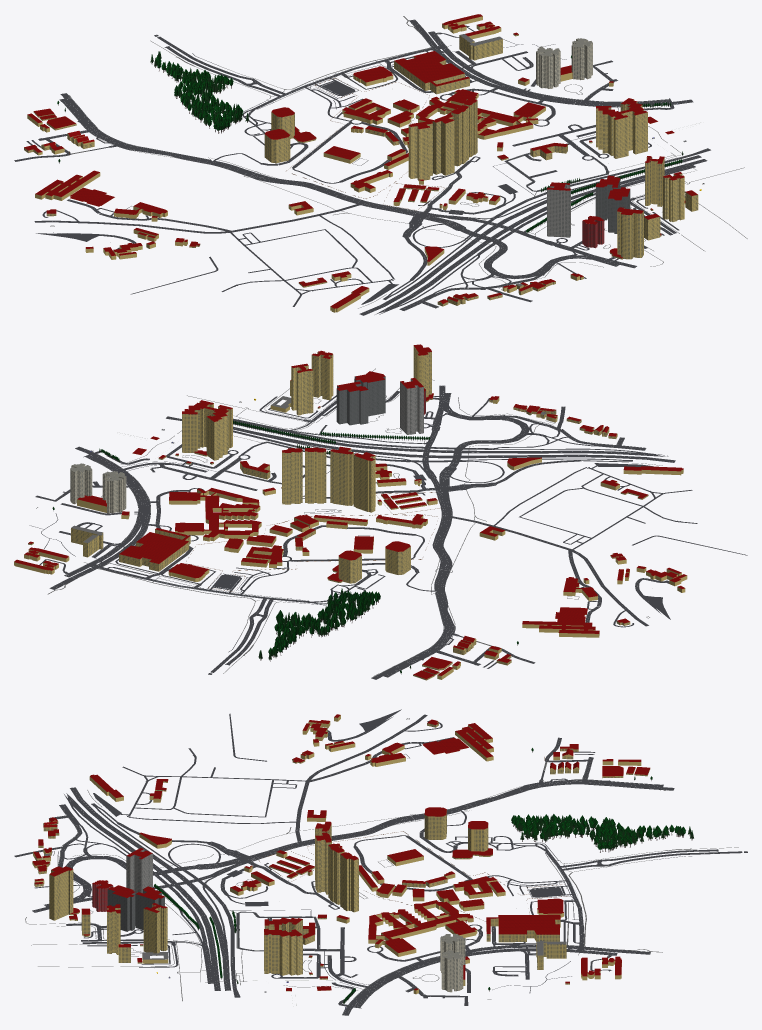
Rendered from osm3d.glb.
The picture shows the model from 3 angles, top to bottom: view 1: azimuth 30°, elevation 25°; view 2: azimuth 150°, elevation 25°; view 3: azimuth 270°, elevation 25°; orthographic projection.
Parts seen in each view (by area): view 1: ASPHALT, Plaster002, RoofingTiles010, Windows, TextureAtlas 7f2b7f43, Concrete034, Plaster002.001, Plaster002.003, Plaster002.002, Windows.001, Windows.003, Windows.002 (+1 smaller); view 2: ASPHALT, Plaster002, RoofingTiles010, Windows, TextureAtlas 7f2b7f43, Concrete034, Plaster002.002, Plaster002.001, Plaster002.003, Windows.002, Windows.001, Windows.003; view 3: ASPHALT, Plaster002, RoofingTiles010, Windows, TextureAtlas 7f2b7f43, Concrete034, Plaster002.002, Plaster002.001, Plaster002.003, Windows.001, Windows.002.
Boxes of the visible parts, box(x1,y1,x2,y2) form: ASPHALT: box(14, 19, 710, 315); Plaster002: box(24, 16, 698, 312); RoofingTiles010: box(24, 14, 697, 308); Windows: box(24, 34, 697, 305); TextureAtlas 7f2b7f43: box(57, 51, 683, 233); Concrete034: box(50, 16, 747, 308); Plaster002.001: box(536, 39, 592, 88); Plaster002.003: box(547, 184, 570, 237); Plaster002.002: box(595, 176, 630, 233); Windows.001: box(536, 40, 592, 88); Windows.003: box(547, 184, 570, 237); Windows.002: box(596, 180, 630, 233); ASPHALT: box(29, 385, 747, 679); Plaster002: box(14, 346, 687, 680); RoofingTiles010: box(14, 344, 686, 679); Windows: box(28, 346, 648, 679); TextureAtlas 7f2b7f43: box(52, 420, 518, 674); Concrete034: box(36, 368, 662, 676); Plaster002.002: box(336, 376, 385, 425); Plaster002.001: box(70, 464, 126, 513); Plaster002.003: box(400, 379, 423, 434); Windows.002: box(336, 377, 385, 424); Windows.001: box(70, 465, 125, 512); Windows.003: box(400, 379, 423, 434); ASPHALT: box(14, 709, 747, 1015); Plaster002: box(32, 715, 650, 994); RoofingTiles010: box(32, 714, 649, 991); Windows: box(34, 723, 649, 984); TextureAtlas 7f2b7f43: box(154, 748, 693, 1004); Concrete034: box(25, 718, 738, 1001); Plaster002.002: box(107, 889, 164, 931); Plaster002.001: box(440, 936, 465, 992); Plaster002.003: box(126, 849, 152, 893); Windows.001: box(440, 938, 465, 991); Windows.002: box(108, 889, 164, 931).
Size of the model in its own units: 1264 by 100 by 1278.
Materials: 29 (26 with a texture image).
